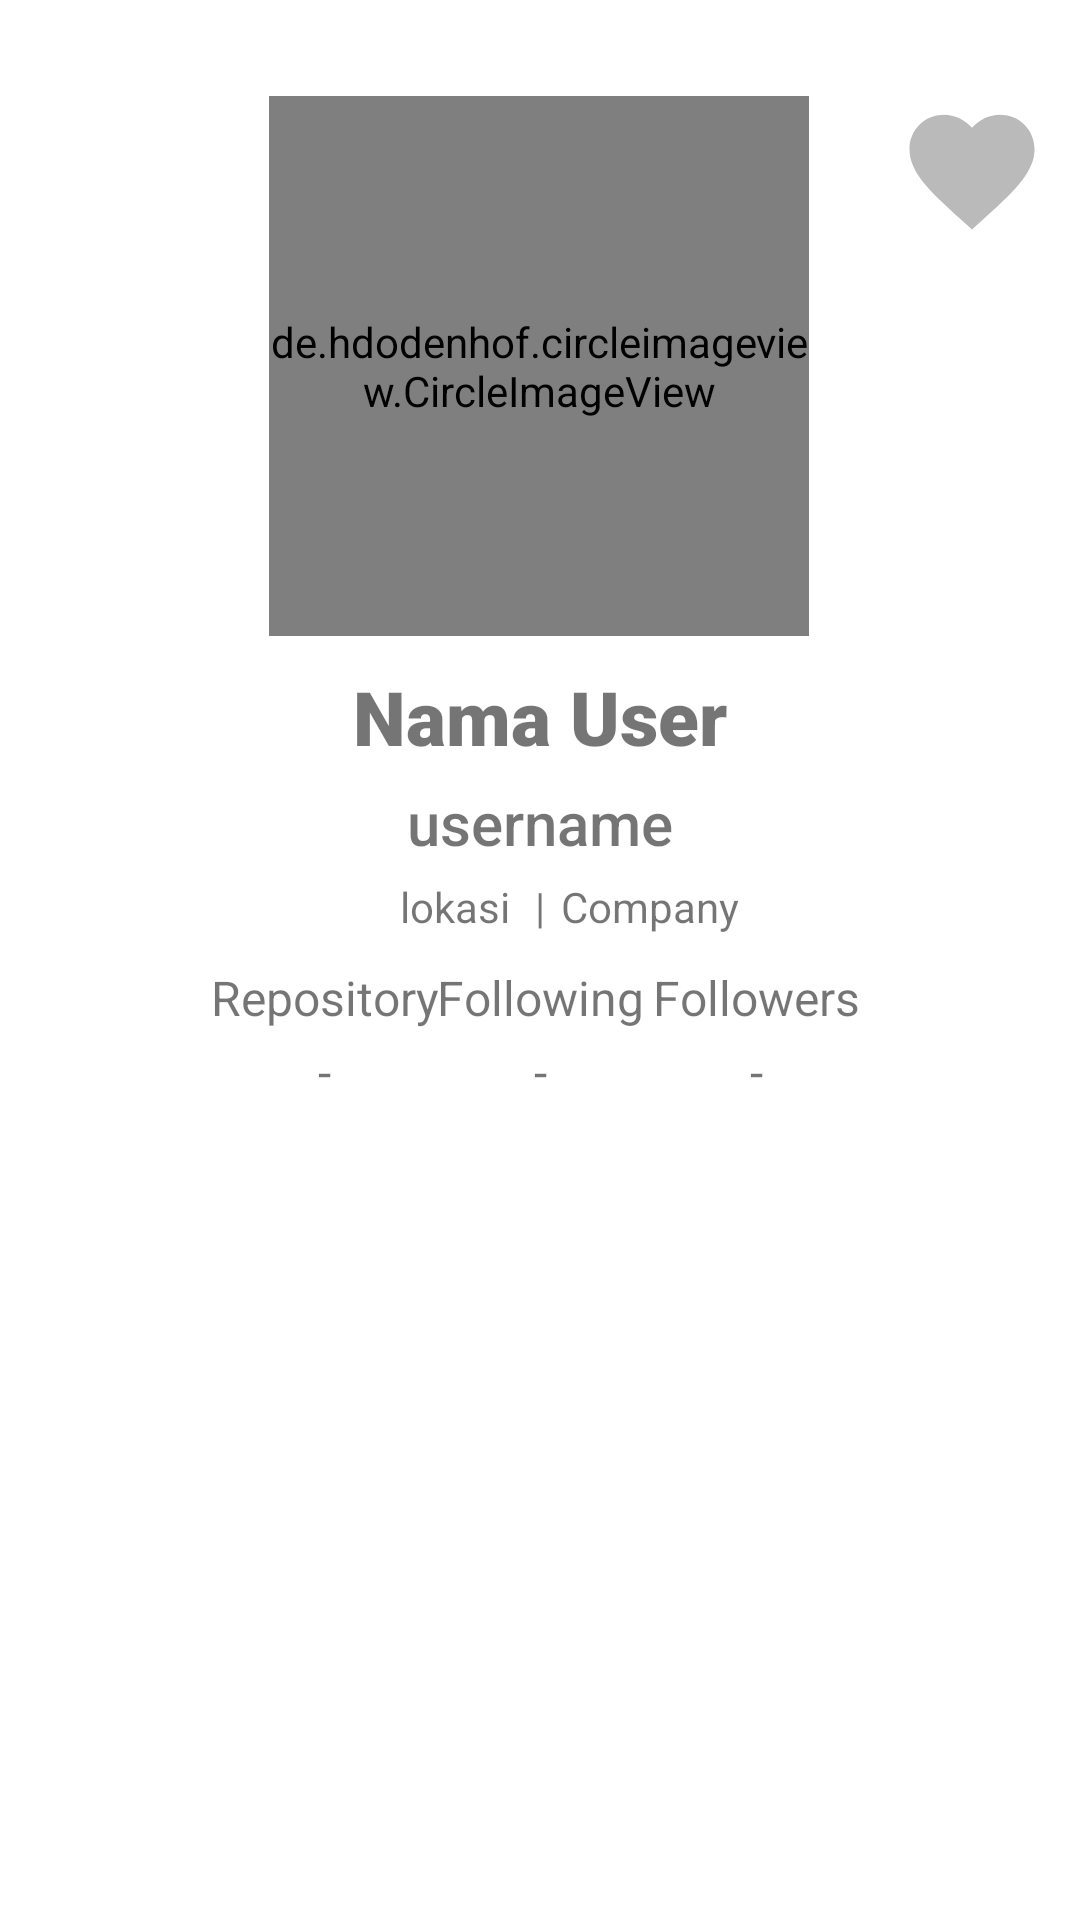

Icon bounding boxes for this 1080px x 1920px phone screenshot, format (x1, y1, x2, y2):
favorite: (909, 115, 1035, 229)
